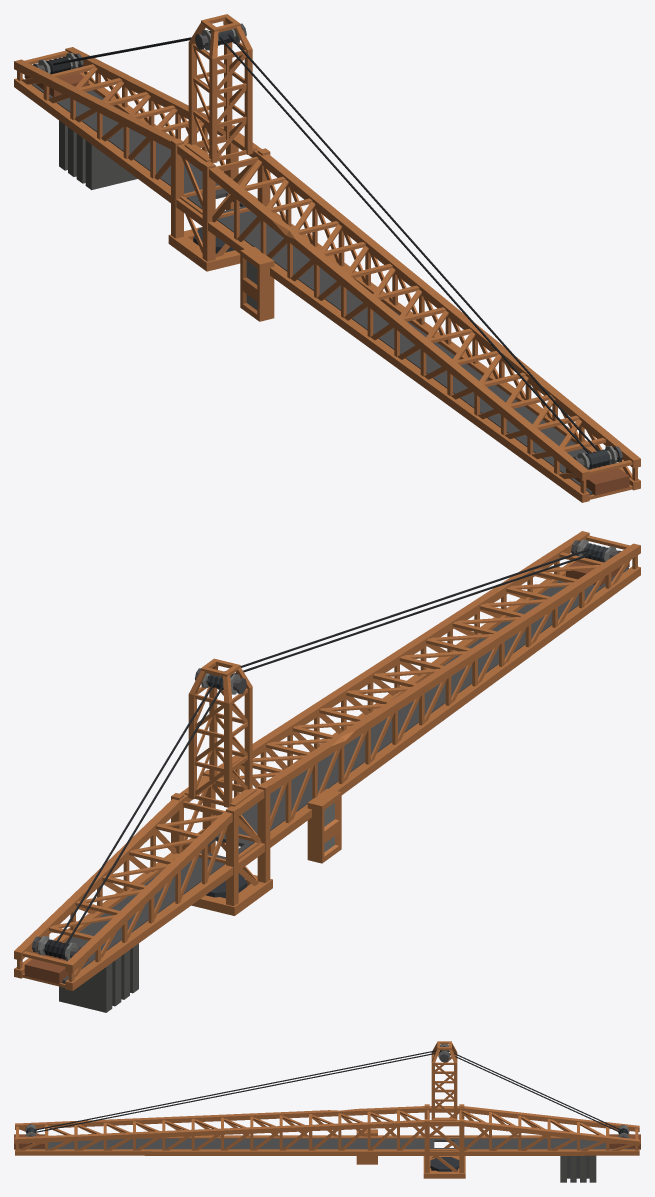
File: SM_Bld_Crane_Top_01.obj
3 views of the same model, one above another, from view 1: azimuth 30°, elevation 25°; view 2: azimuth 150°, elevation 25°; view 3: azimuth 270°, elevation 25° (orthographic). The views are drawn at different scales.
Visible parts, largest first — view 1: SM_Bld_Crane_Top_01_0; view 2: SM_Bld_Crane_Top_01_0; view 3: SM_Bld_Crane_Top_01_0.
Part boxes in pixels (<box>): SM_Bld_Crane_Top_01_0: <box>14,14,640,502</box>; SM_Bld_Crane_Top_01_0: <box>14,531,640,1012</box>; SM_Bld_Crane_Top_01_0: <box>14,1041,640,1182</box>.
Bounding box in the file's own units: 2.52 × 7.79 × 33.66.
1 material, 1 textured.
